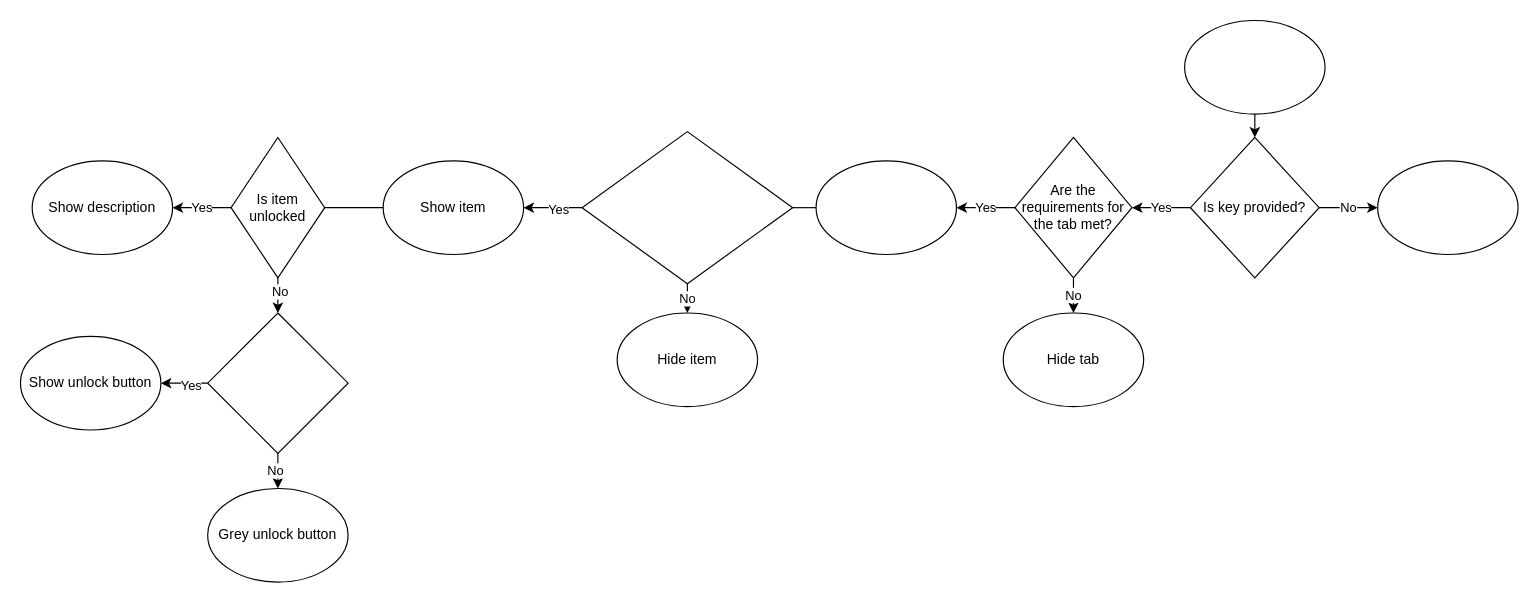
This 1539x603 diagram has some shape labels left out. The shapes that lost their labels are listed below. From the top down, each one's centre as x and y in pixels, then its label:
(x=1254, y=66): Start
(x=687, y=207): Is base requirement met / previous item unlocked?
(x=885, y=207): Show tab
(x=1447, y=207): Hide tabs, buttons greyed out
(x=277, y=382): Are required resources / consumables available?
